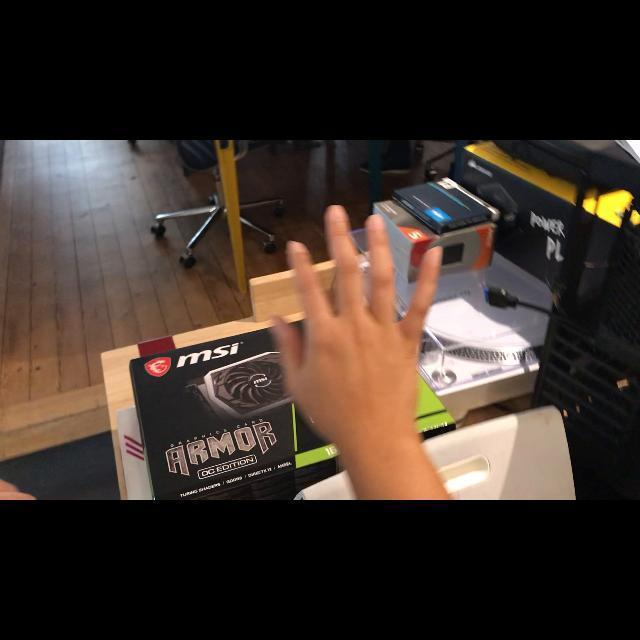bare_hand: (268, 203, 443, 439)
